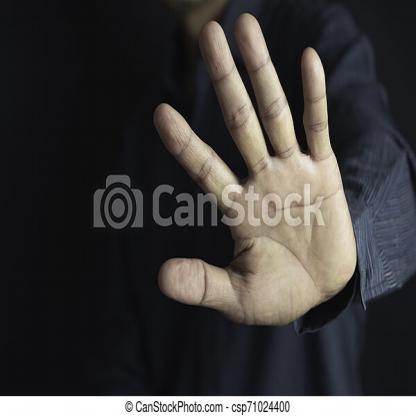Stop: (149, 20, 351, 316)
